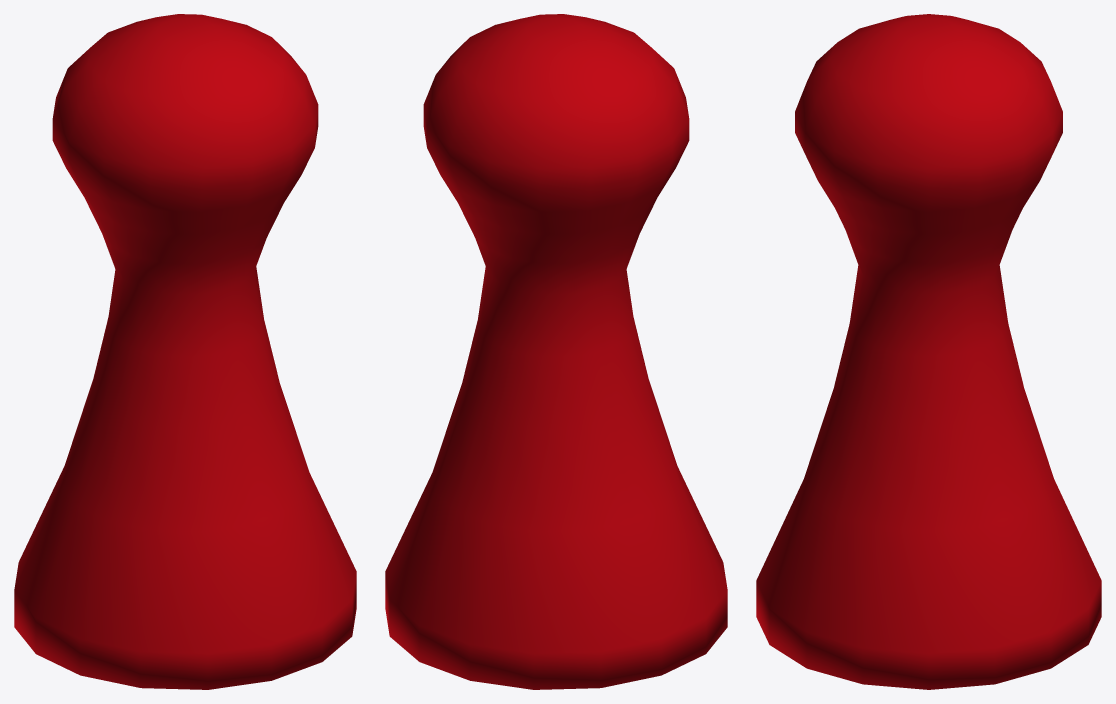
The model's file is red.glb.
3 views of the same model, side by side, from view 1: azimuth 30°, elevation 25°; view 2: azimuth 150°, elevation 25°; view 3: azimuth 270°, elevation 25° (orthographic).
Parts seen in each view (by area): view 1: RedGameFigure2; view 2: RedGameFigure2; view 3: RedGameFigure2.
Part boxes in pixels (x1,y1,x2,y2): RedGameFigure2: (14, 14, 356, 689); RedGameFigure2: (385, 14, 727, 689); RedGameFigure2: (756, 14, 1101, 689).
Bounding box in the file's own units: 2.27 × 4.25 × 2.27.
